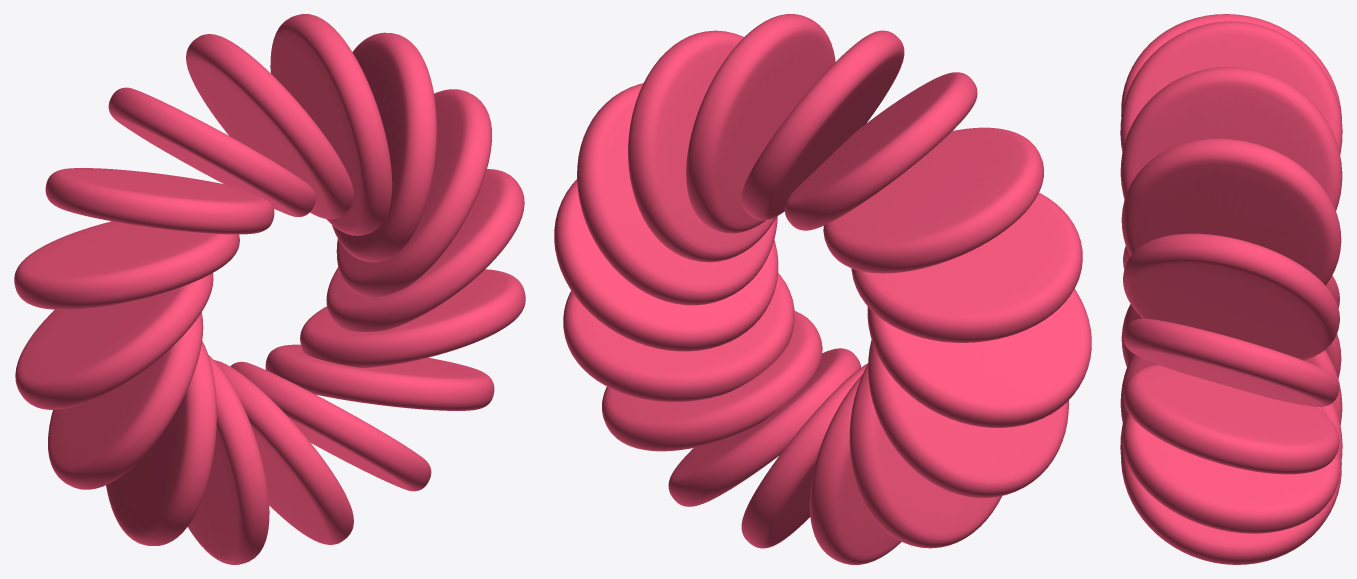
File: circle-abstract-shape-animated-3d-icon-89237357186.glb
The picture shows the model from 3 angles, left to right: view 1: azimuth 30°, elevation 25°; view 2: azimuth 150°, elevation 25°; view 3: azimuth 270°, elevation 25°; orthographic projection. The views are drawn at different scales.
Parts seen in each view (by area): view 1: Circles; view 2: Circles; view 3: Circles.
Boxes of the visible parts, x1,y1,x2,y2 form: Circles: (14,14,525,564); Circles: (554,14,1091,564); Circles: (1120,14,1342,564).
Size of the model in its own units: 1.95 by 1.95 by 0.7943.
